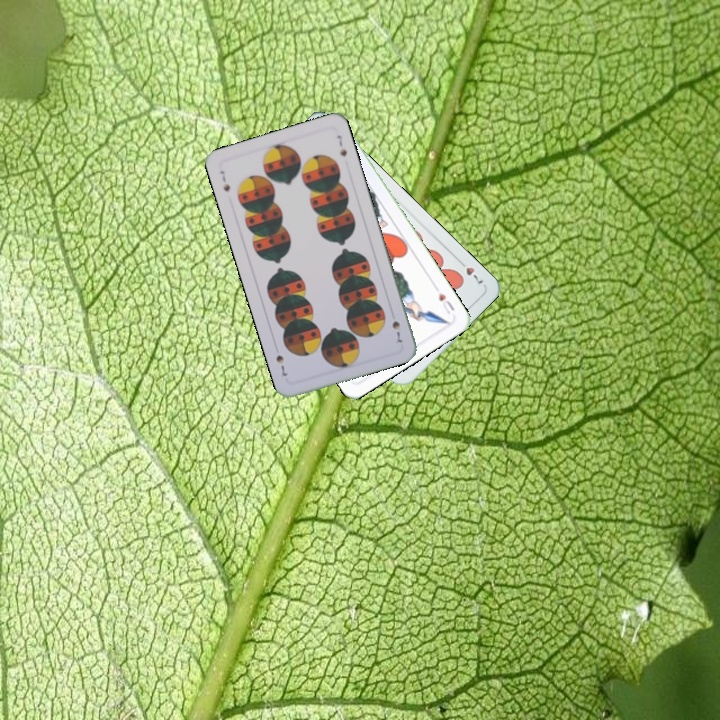H7: (454, 256, 486, 289)
HU: (434, 289, 457, 317)
S7: (388, 317, 405, 345), (216, 166, 233, 194)
